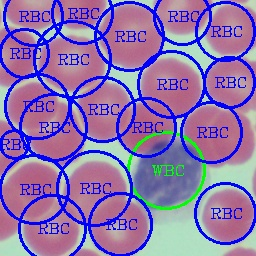RBC: (52, 152, 132, 232), (92, 0, 170, 73), (132, 51, 205, 123), (34, 28, 110, 97), (22, 98, 90, 172), (70, 75, 136, 147), (83, 192, 154, 255), (0, 154, 64, 222), (114, 96, 180, 159), (198, 48, 255, 120), (194, 182, 254, 250), (178, 100, 236, 166), (19, 200, 84, 255), (202, 105, 254, 172), (200, 0, 255, 63), (1, 76, 61, 133), (0, 20, 41, 92), (146, 0, 214, 40), (47, 0, 110, 33)
WBC: (124, 131, 210, 218)
